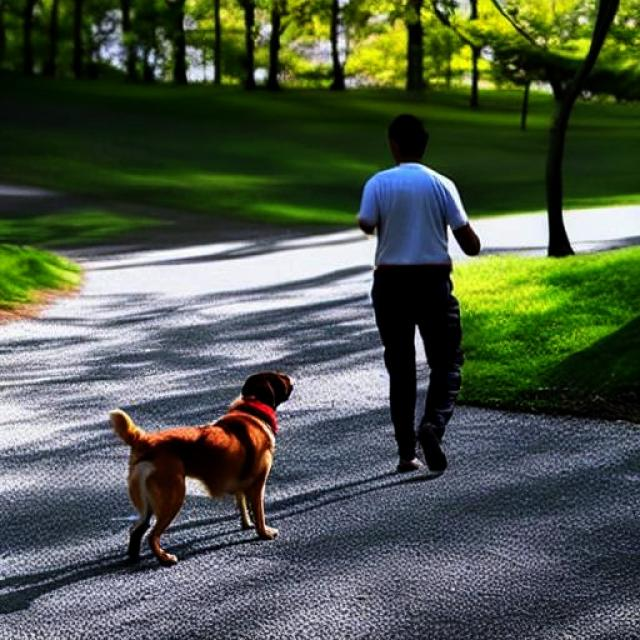Unleashed_Dog: (108, 260, 452, 568)
